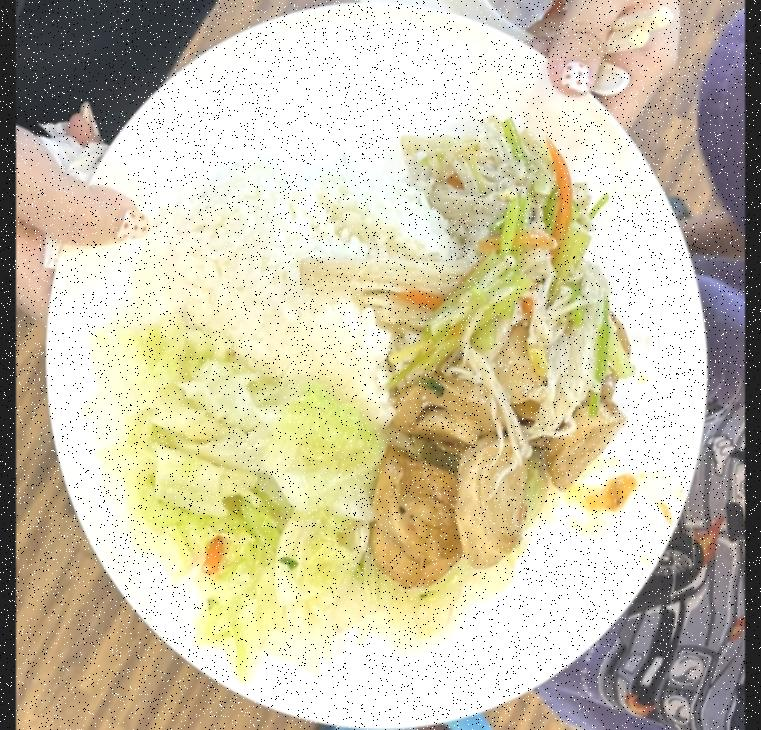plate: (32, 0, 718, 723)
side dish: (119, 332, 395, 658), (372, 337, 638, 587), (424, 109, 622, 403)
white rice: (159, 149, 470, 425)
